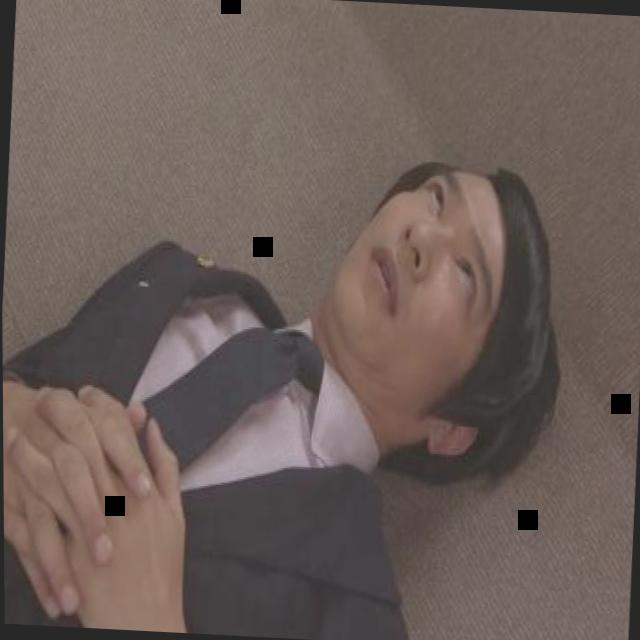Fall-Detected: (1, 86, 588, 640)
